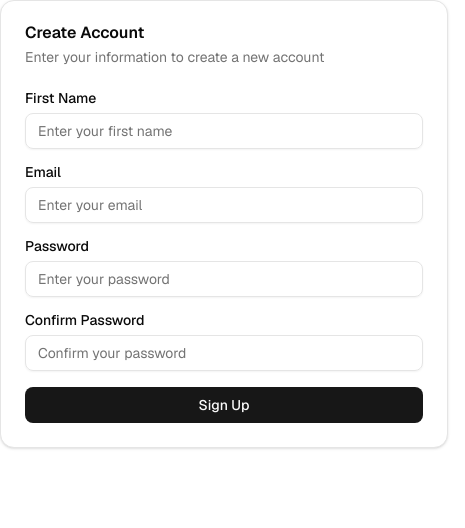
Test: Authentication Flow › SignupForm › should handle signup error
Type "John" into the field labelled "First Name" at (224, 131), box [25, 113, 423, 149]
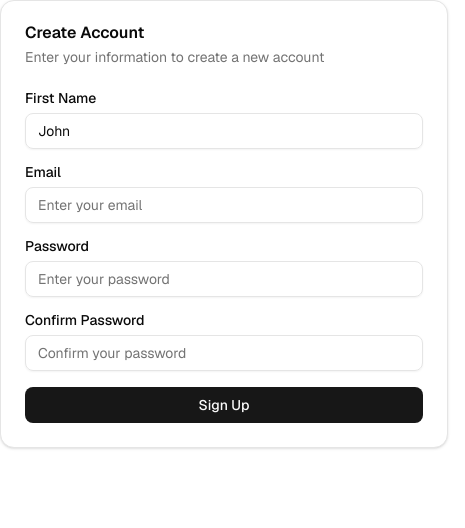
Type "existing@example.com" into the field labelled "Email" at (224, 205), box [25, 187, 423, 223]
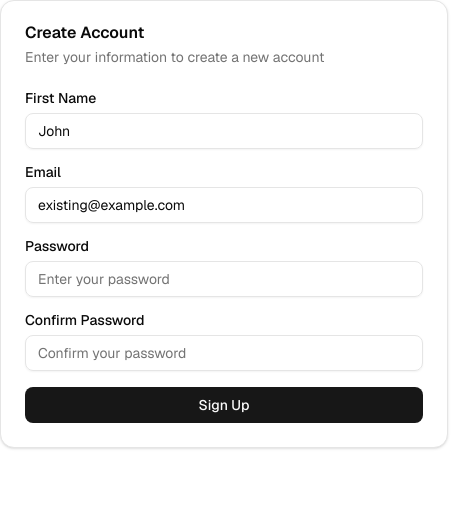
Type "password123" into the password field labelled "Password" at (224, 279), box [25, 261, 423, 297]
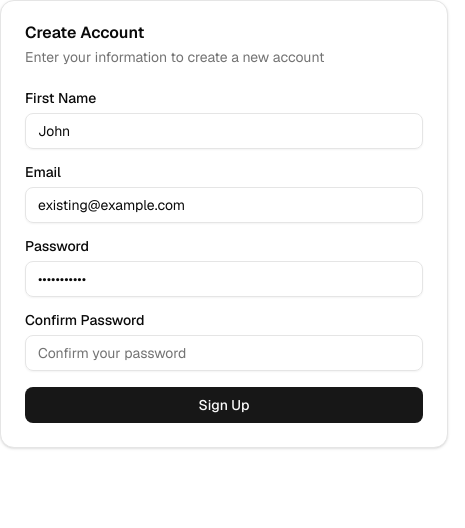
Type "password123" into the password field labelled "Confirm Password" at (224, 353), box [25, 335, 423, 371]
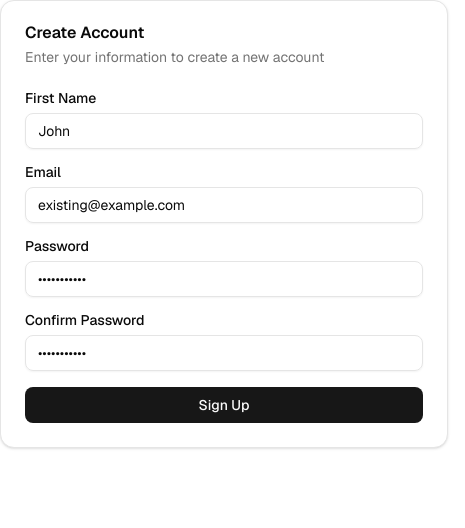
Click the button "Sign Up" at (224, 405), box [25, 387, 423, 423]
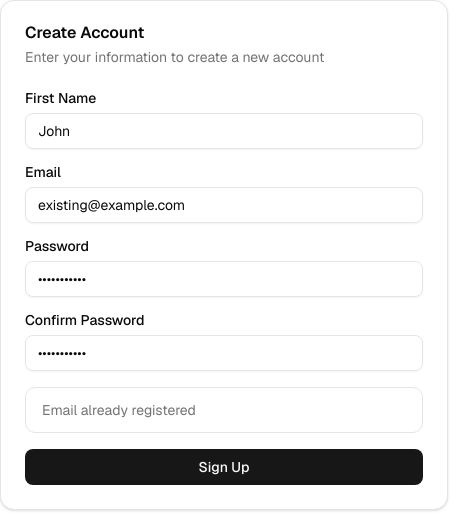
Result: the text "Email already registered" is shown at [42, 401, 196, 419]
